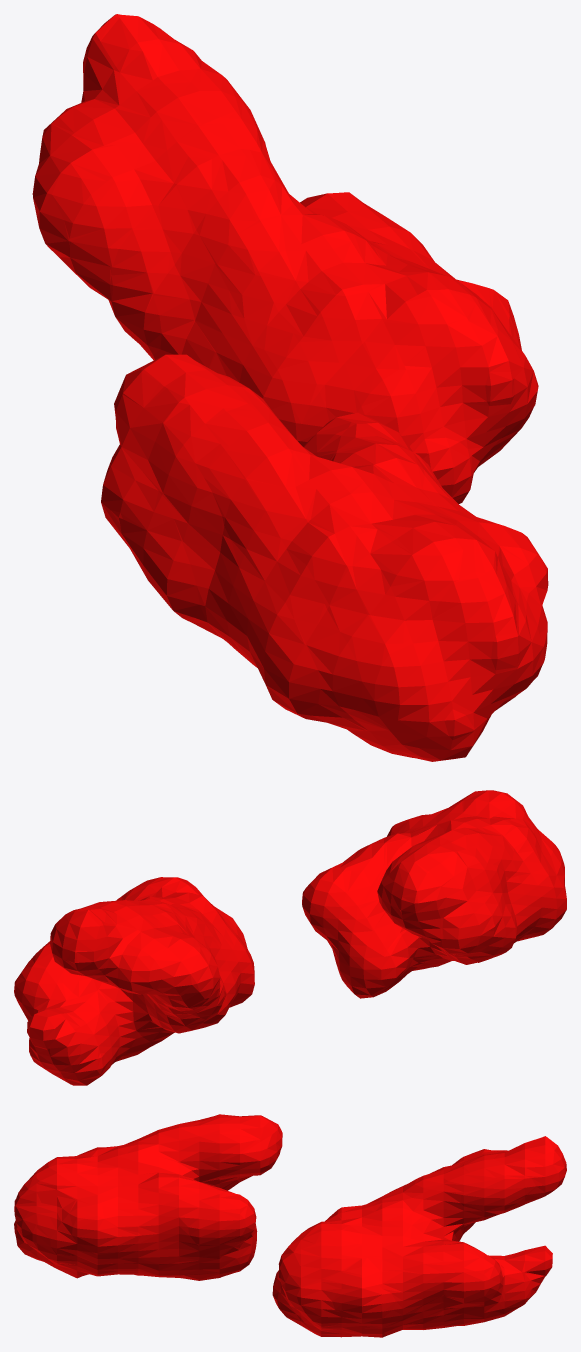
The model's file is ybaB_coarse.dae.
The picture shows the model from 3 angles, top to bottom: view 1: azimuth 30°, elevation 25°; view 2: azimuth 150°, elevation 25°; view 3: azimuth 270°, elevation 25°; orthographic projection. The views are drawn at different scales.
Parts seen in each view (by area): view 1: ybaB; view 2: ybaB; view 3: ybaB.
Part boxes in pixels (x1,y1,x2,y2): ybaB: (32, 14, 548, 761); ybaB: (14, 790, 566, 1085); ybaB: (14, 1114, 566, 1337).
Bounding box in the file's own units: 68.09 × 43.51 × 121.
